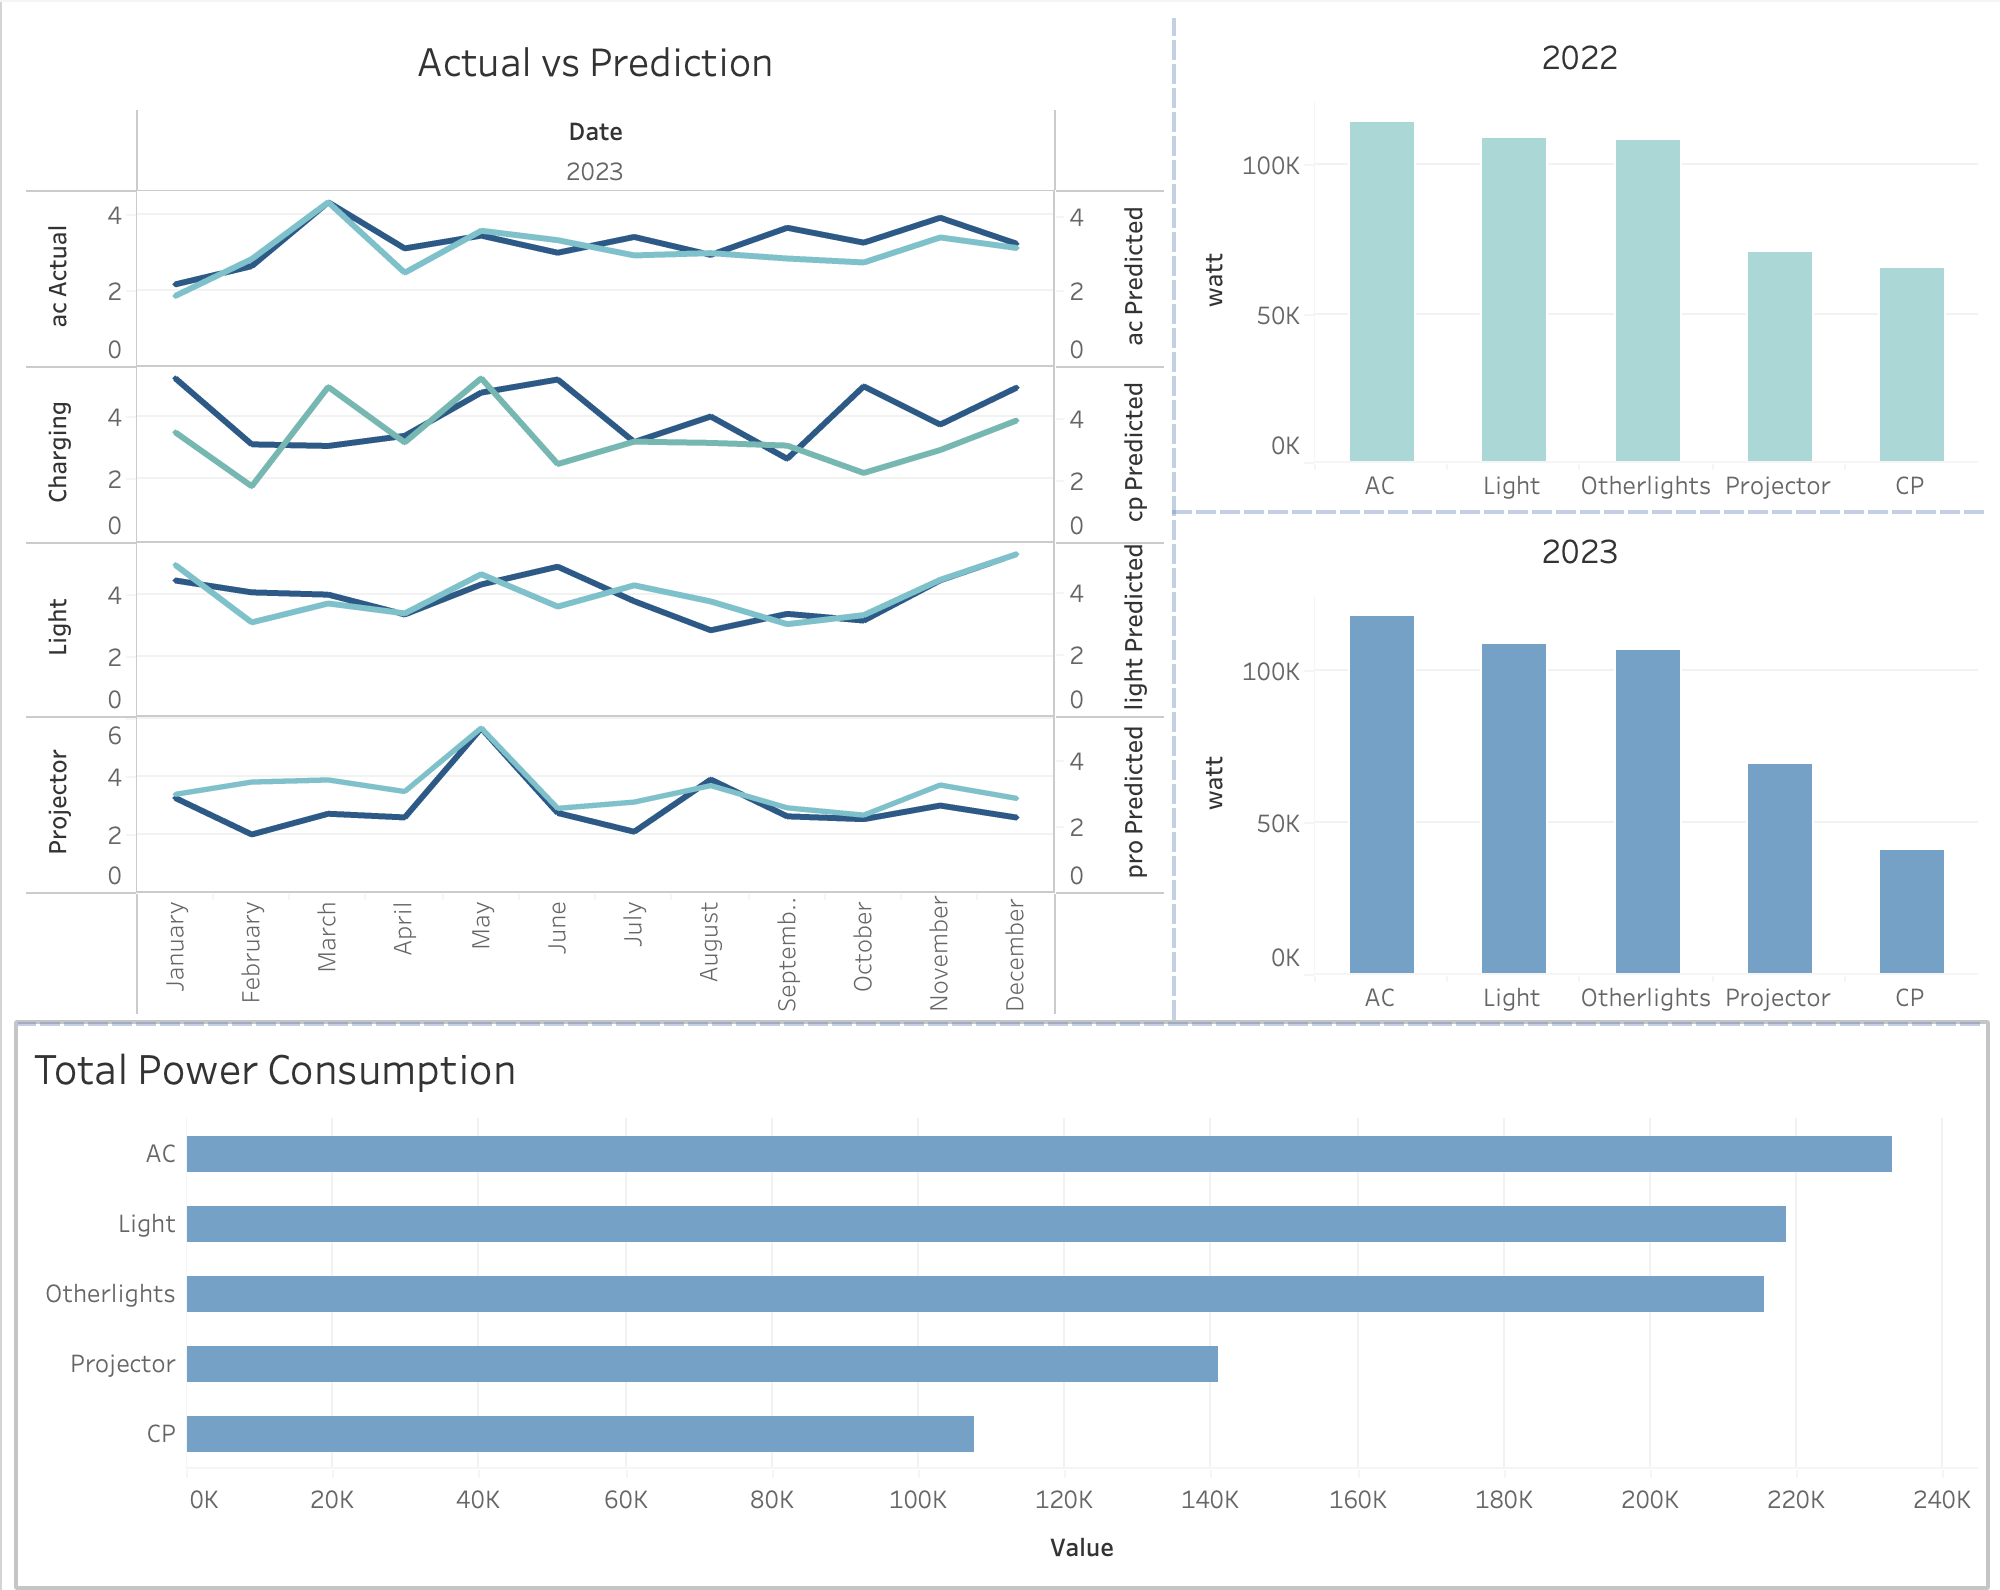

The dashboard page shown, as its layout file describes it:
{"tool":"tableau","page":{"name":"A vs P ","canvas":[1000,800],"ordinal":0},"visuals":[{"type":"worksheet","title":"ALL  A (vs) P ","mark":"Line","rows":["ac_Actual","ac_Predicted","cp_Actual","cp_Predicted","light_Actual","light_Predicted","pro_Actual","pro_Predicted"],"cols":["date","date"],"box":[8,8,578,503]},{"type":"worksheet","title":"PC_22","mark":"Bar","box":[586,8,406,247]},{"type":"worksheet","title":"PC_23","mark":"Bar","box":[586,255,406,256]},{"type":"worksheet","title":"T_PC","mark":"Automatic","box":[8,511,984,281]}]}

Visuals, with their boxes in screenshot pixels (x1, y1, x2, y2), scaled from the page's 1000x800 canvas onto the 2000x1590 screenshot:
"ALL  A (vs) P " worksheet (Line marks): x1=16 y1=16 x2=1172 y2=1016
"PC_22" worksheet (Bar marks): x1=1172 y1=16 x2=1984 y2=507
"PC_23" worksheet (Bar marks): x1=1172 y1=507 x2=1984 y2=1016
"T_PC" worksheet: x1=16 y1=1016 x2=1984 y2=1574
